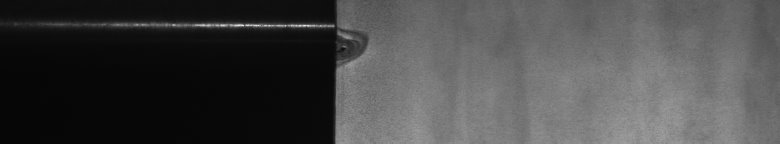hb: (348, 20, 376, 72)
